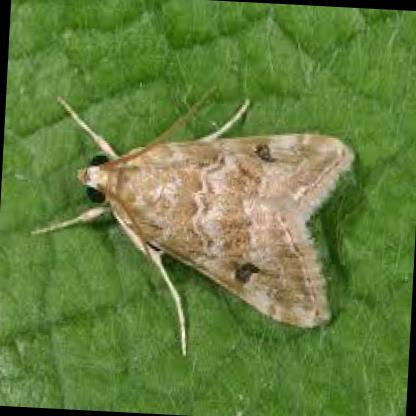Hellula undalis: (27, 84, 368, 357)
